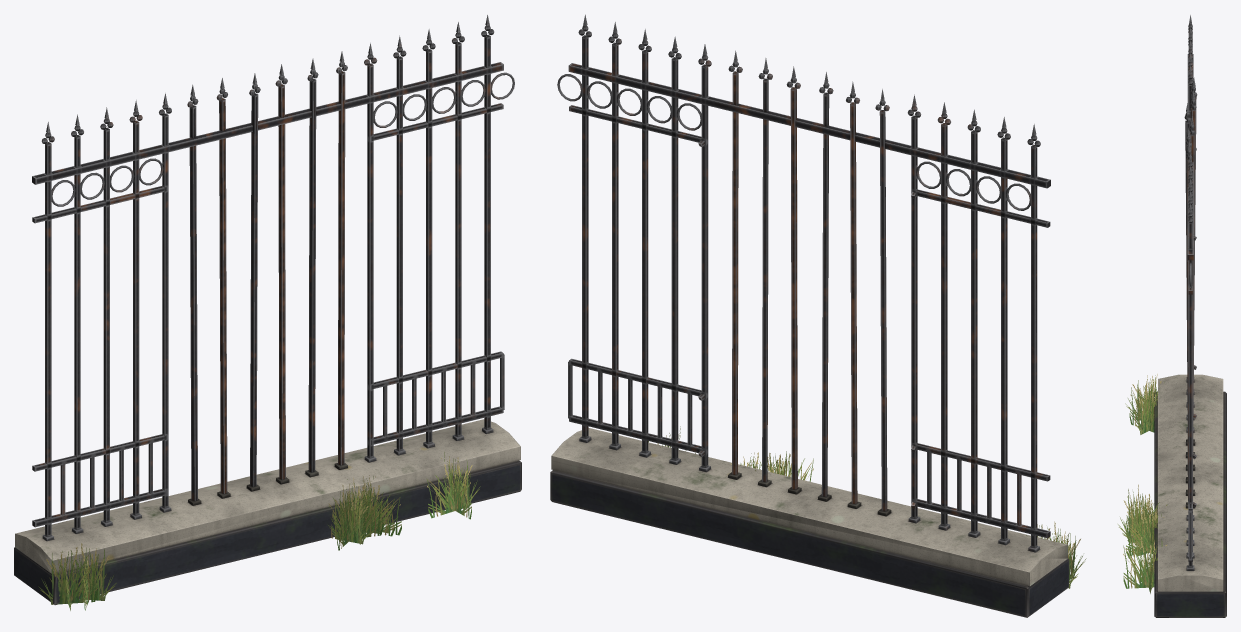
Rendered from SneakLooseBars.fbx.
3 renders of one model, left to right at view 1: azimuth 30°, elevation 25°; view 2: azimuth 150°, elevation 25°; view 3: azimuth 270°, elevation 25°, orthographic. The views are drawn at different scales.
Parts seen in each view (by area): view 1: SneakLooseBars_Main, SneakLooseBars_Leaves, SneakLooseBars_Bar3, SneakLooseBars_Bar4, SneakLooseBars_Bar1, SneakLooseBars_Bar2, SneakLooseBars_Bar0, SneakLooseBars_Bar5; view 2: SneakLooseBars_Main, SneakLooseBars_Bar3, SneakLooseBars_Bar5, SneakLooseBars_Bar1, SneakLooseBars_Bar2, SneakLooseBars_Bar0, SneakLooseBars_Bar4, SneakLooseBars_Leaves; view 3: SneakLooseBars_Main, SneakLooseBars_Leaves, SneakLooseBars_Bar5, SneakLooseBars_Bar3, SneakLooseBars_Bar1, SneakLooseBars_Bar4, SneakLooseBars_Bar2, SneakLooseBars_Bar0.
Boxes of the visible parts, x1,y1,x2,y2 form: SneakLooseBars_Main: (14, 15, 521, 605); SneakLooseBars_Leaves: (38, 452, 480, 610); SneakLooseBars_Bar3: (275, 64, 287, 479); SneakLooseBars_Bar4: (307, 58, 318, 472); SneakLooseBars_Bar1: (216, 78, 227, 493); SneakLooseBars_Bar2: (249, 73, 260, 486); SneakLooseBars_Bar0: (187, 84, 198, 501); SneakLooseBars_Bar5: (336, 51, 347, 465); SneakLooseBars_Main: (550, 14, 1069, 617); SneakLooseBars_Bar3: (786, 66, 800, 489); SneakLooseBars_Bar5: (728, 50, 742, 474); SneakLooseBars_Bar1: (846, 81, 859, 504); SneakLooseBars_Bar2: (819, 72, 833, 496); SneakLooseBars_Bar0: (875, 89, 889, 511); SneakLooseBars_Bar4: (758, 58, 772, 482); SneakLooseBars_Leaves: (648, 426, 1086, 588); SneakLooseBars_Main: (1154, 15, 1226, 617); SneakLooseBars_Leaves: (1118, 374, 1167, 593); SneakLooseBars_Bar5: (1186, 140, 1192, 502); SneakLooseBars_Bar3: (1189, 115, 1194, 445); SneakLooseBars_Bar1: (1190, 90, 1196, 452); SneakLooseBars_Bar4: (1185, 128, 1193, 491); SneakLooseBars_Bar2: (1184, 103, 1190, 361); SneakLooseBars_Bar0: (1190, 77, 1197, 415).
Size of the model in its own units: 843 by 761 by 185.
